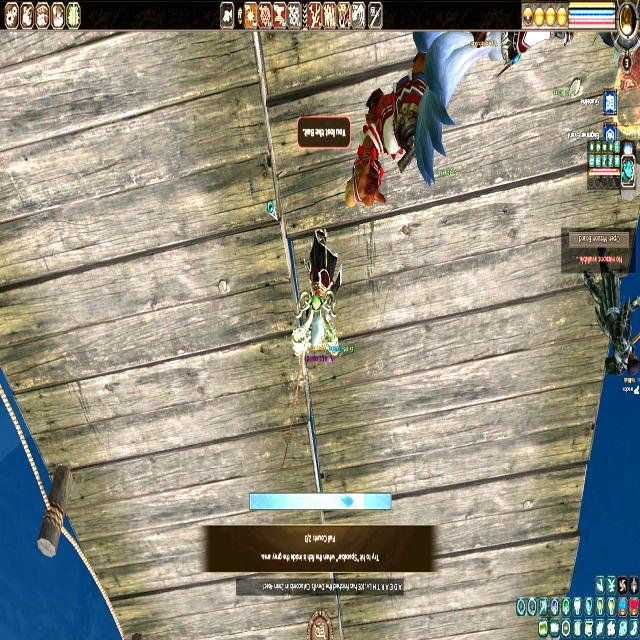fishes: (342, 495, 353, 509)
